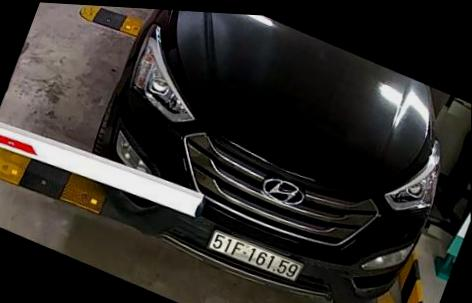License_Plate: (197, 223, 309, 290)
